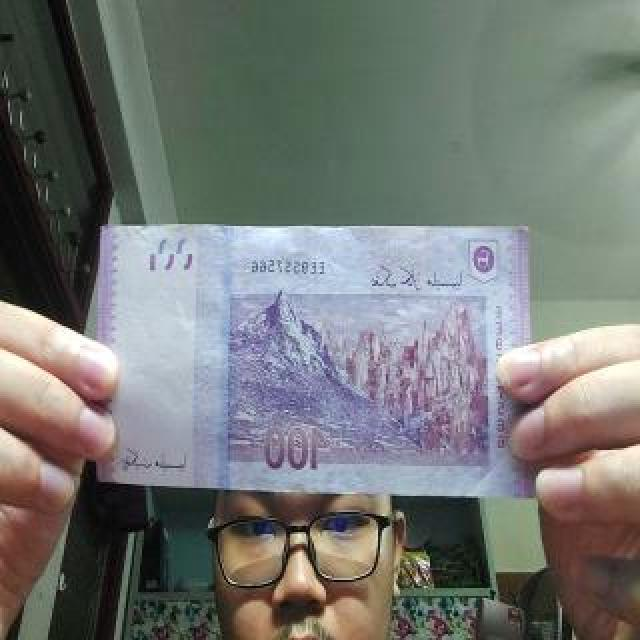100 Ringgit: (82, 230, 541, 500)
